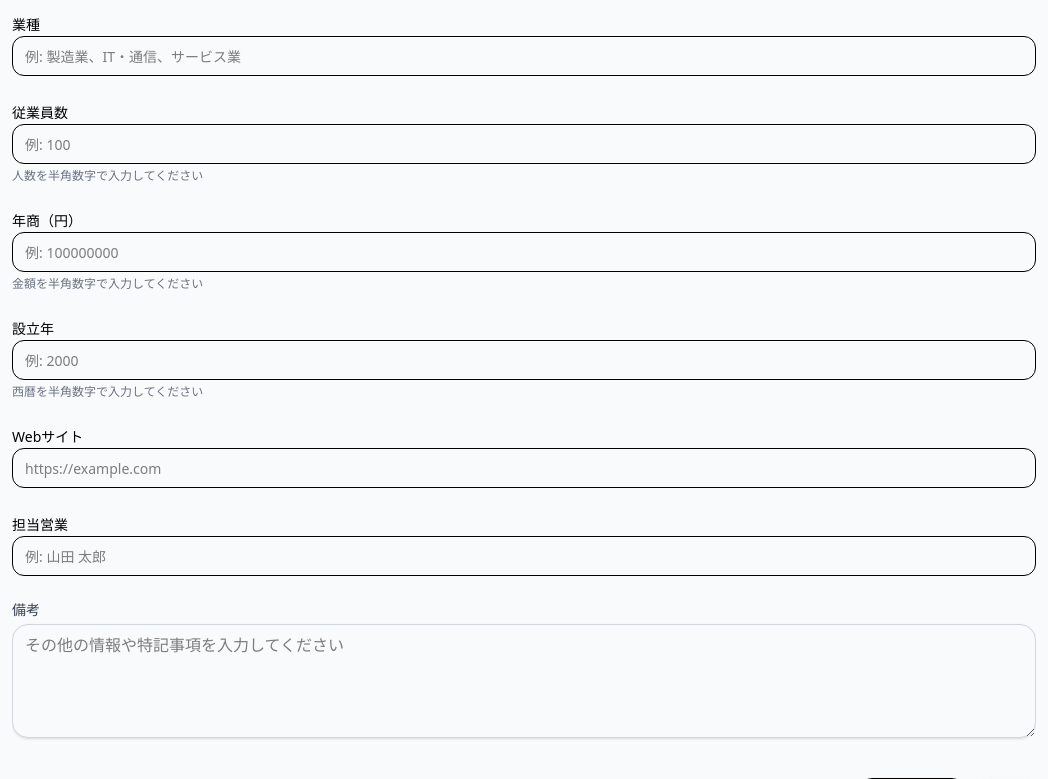
it: CustomerForm › バリデーション › 年商に負の数を入力すると、エラーが表示される
In the number field labelled "年商（円）": (524, 252) x1=12 y1=232 x2=1036 y2=272, type "-1000"
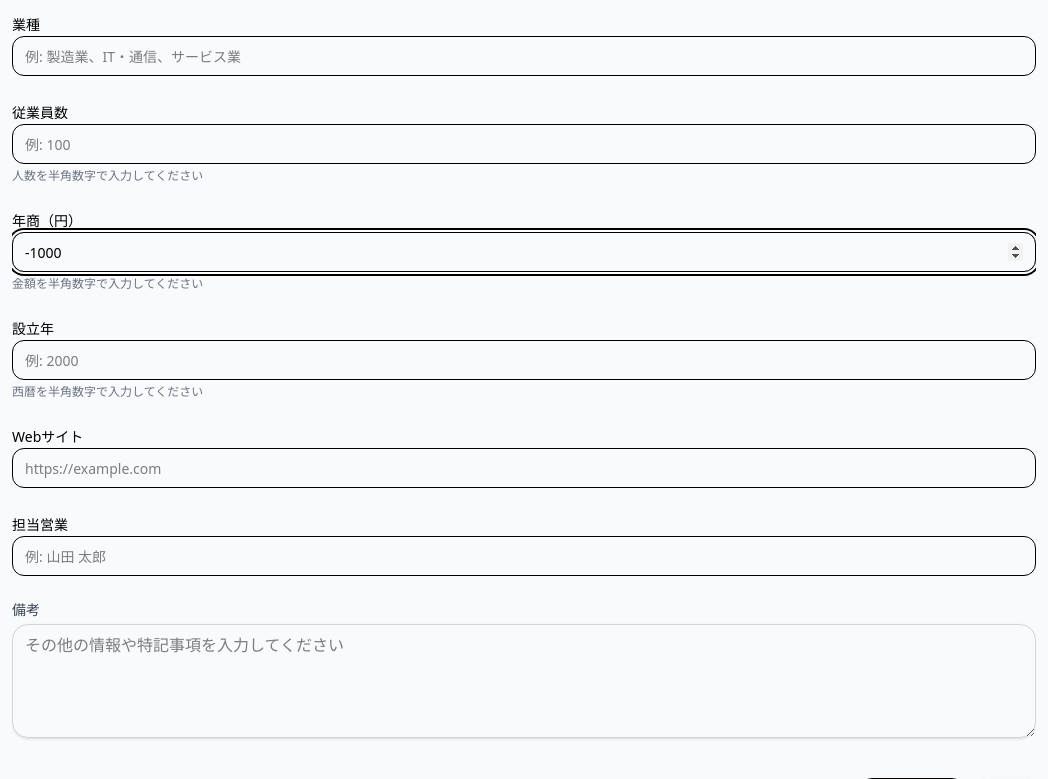
Press Tab
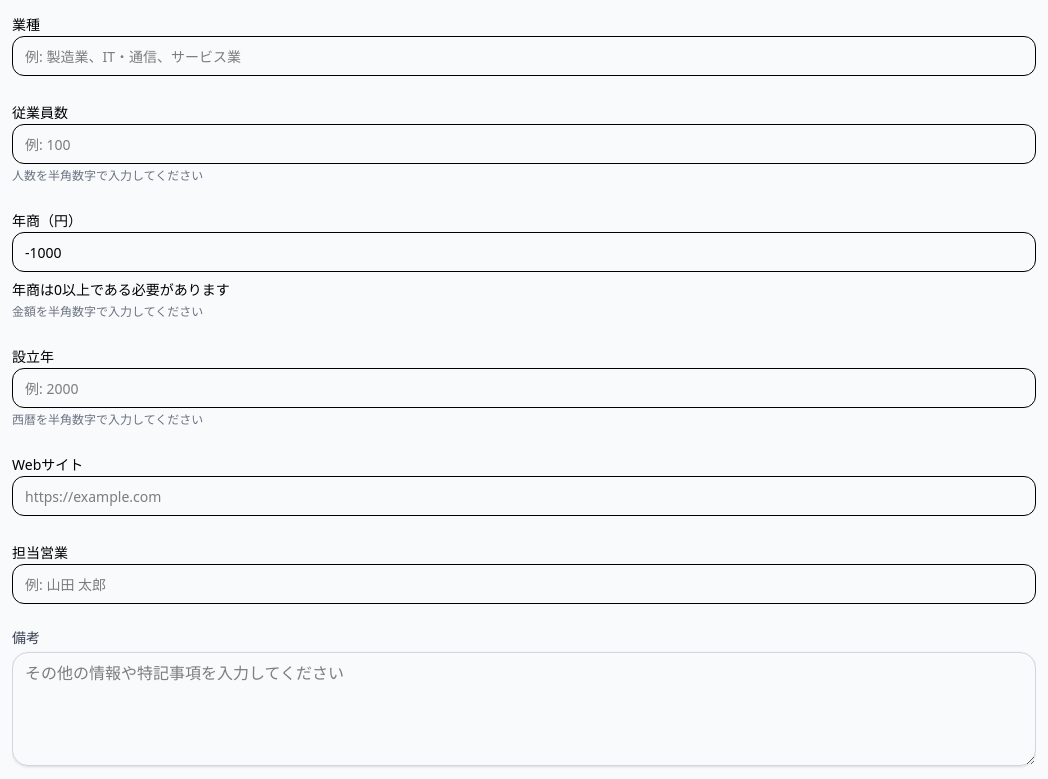
Check: the text "年商は0以上である必要があります" is shown, box x1=12 y1=280 x2=230 y2=299
